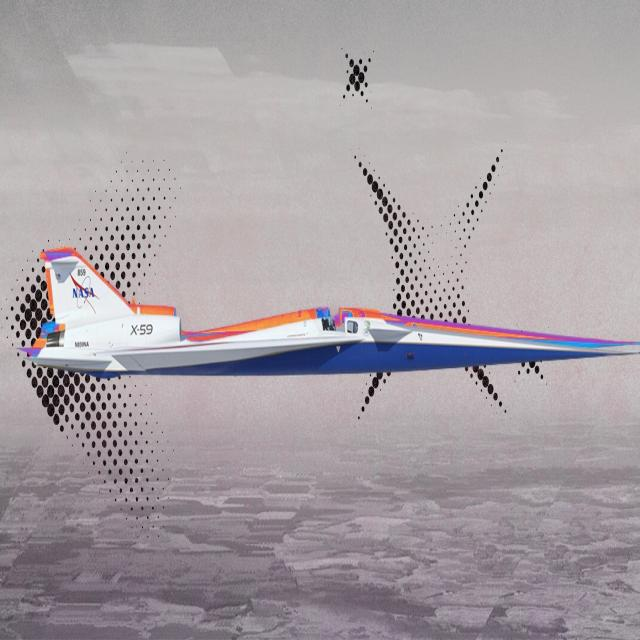aircraft: (20, 199, 640, 558)
